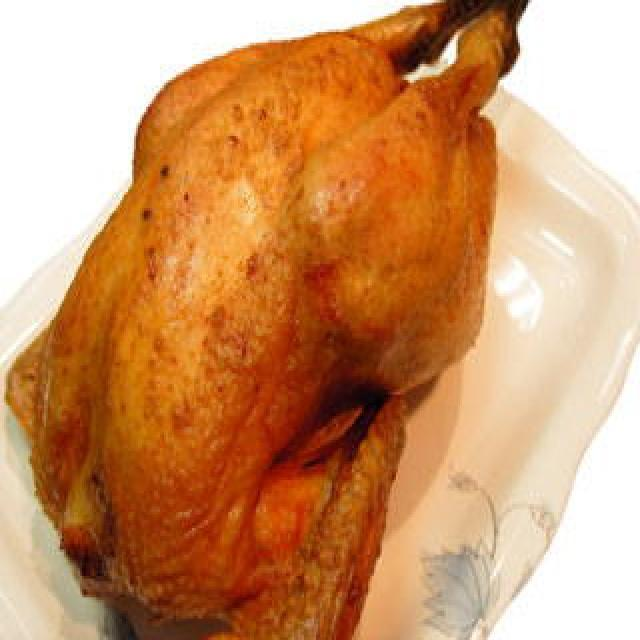Chicken: (23, 0, 524, 636)
